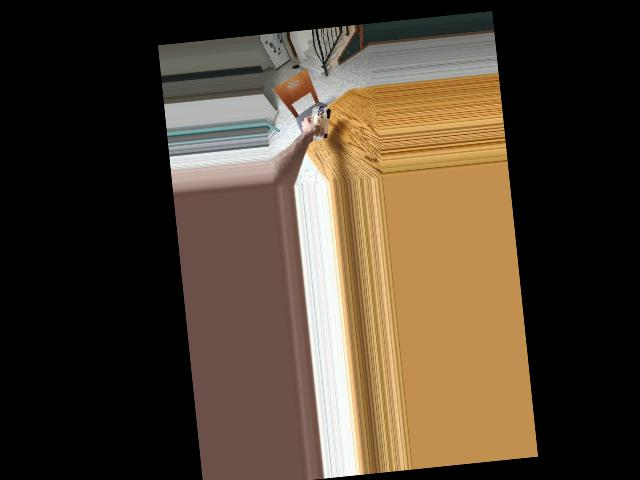cheese: (307, 106, 333, 141)
